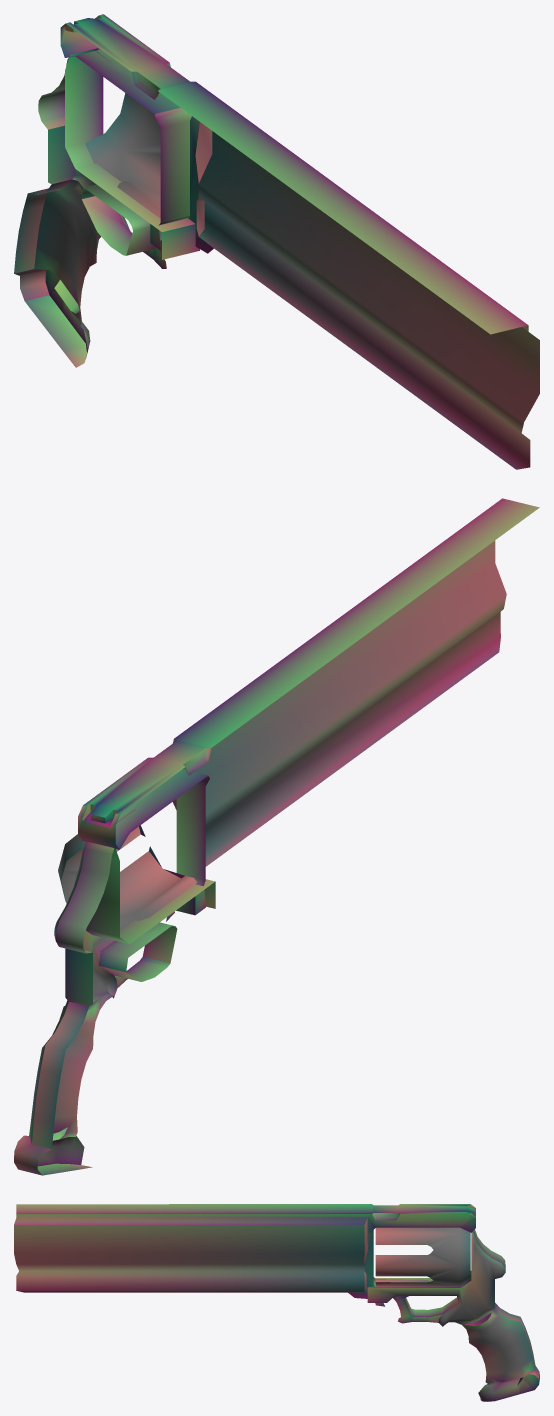
File: Eff_Billy_Attack_EXQTE_plan_002.fbx
3 renders of one model, top to bottom at view 1: azimuth 30°, elevation 25°; view 2: azimuth 150°, elevation 25°; view 3: azimuth 270°, elevation 25°, orthographic. The views are drawn at different scales.
Parts seen in each view (by area): view 1: Eff_Billy_Attack_EXQTE_plan_002; view 2: Eff_Billy_Attack_EXQTE_plan_002; view 3: Eff_Billy_Attack_EXQTE_plan_002.
Boxes of the visible parts, x1,y1,x2,y2 form: Eff_Billy_Attack_EXQTE_plan_002: [14, 14, 539, 469]; Eff_Billy_Attack_EXQTE_plan_002: [14, 498, 539, 1175]; Eff_Billy_Attack_EXQTE_plan_002: [14, 1204, 539, 1401].
Bounding box in the file's own units: 0.0451 × 0.2085 × 0.5227.
